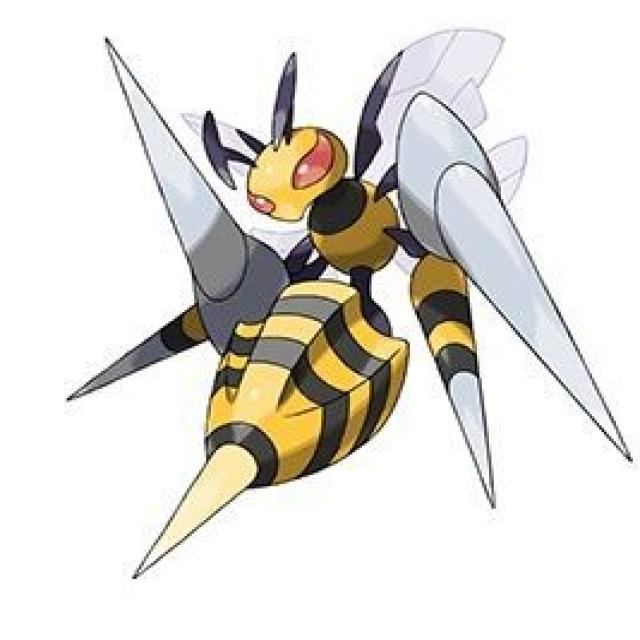Beedrill: (98, 38, 558, 564)
